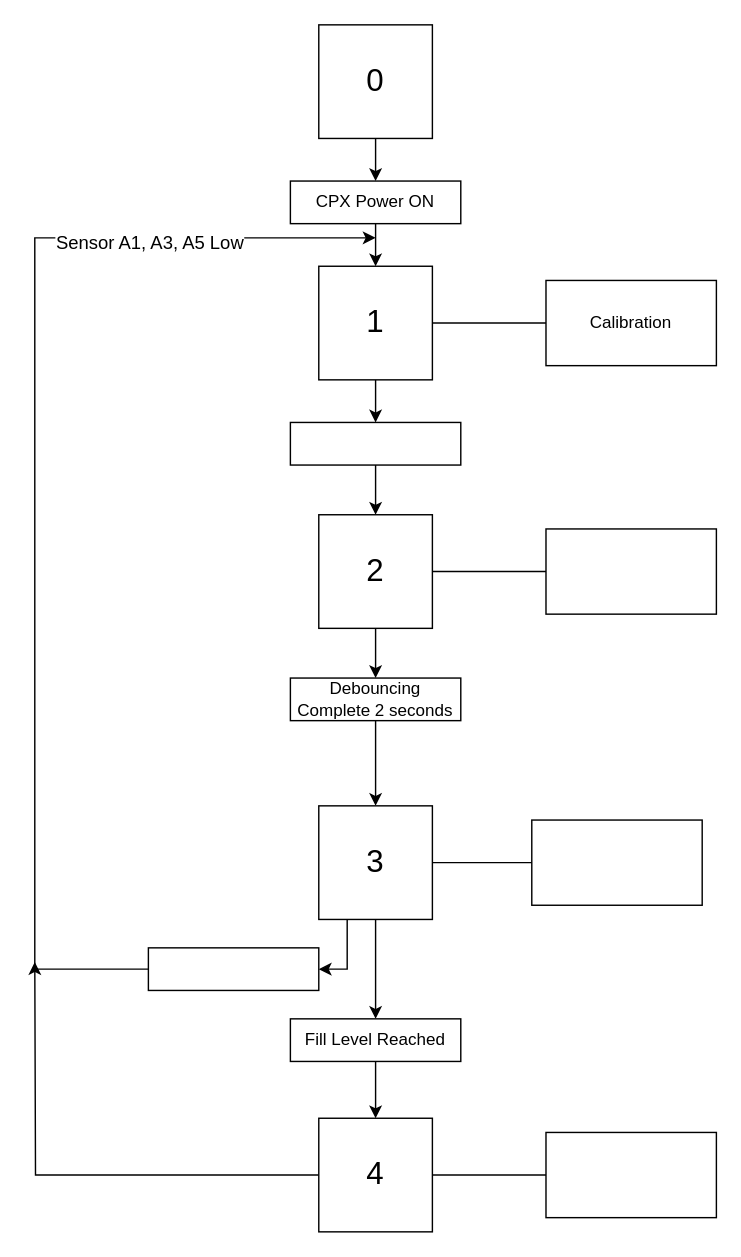
The diagram is 741 pixels wide and 1257 high, and some of its shapes have lost their labels. The centre of each missing label's shape, as x and y in pixels:
"CPX Red LED ON" belongs at (630,1174).
"Debouncing" belongs at (630,571).
"Fill Level NOT Reached" belongs at (233,968).
"Sensor Voting" belongs at (616,862).
"Water Flows" belongs at (375,443).
